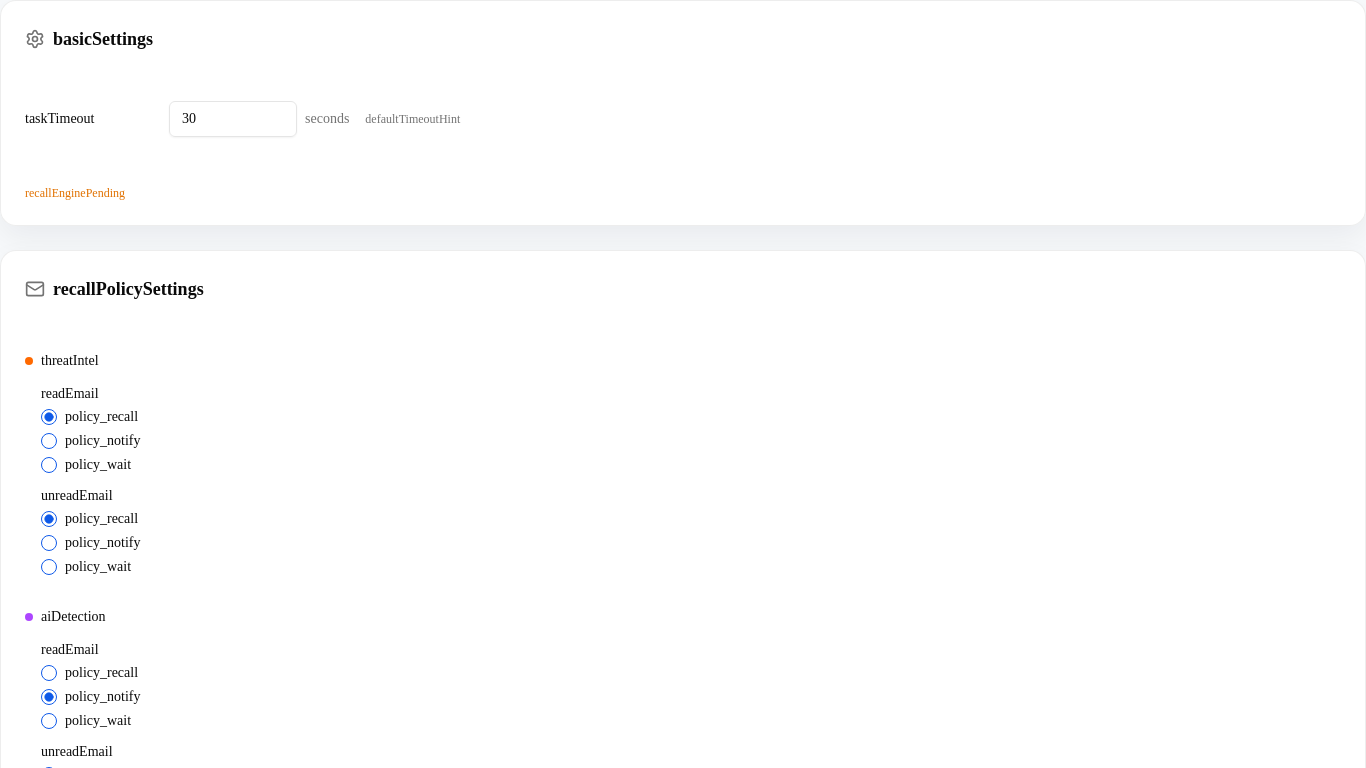
Test: RecallSettingsTab timeout input (GT-13250) › removes the forced zero before accepting a replacement integer
Clear the number field with test id "disposal-settings-recall-timeout" at (233,119), box x1=169 y1=101 x2=297 y2=137
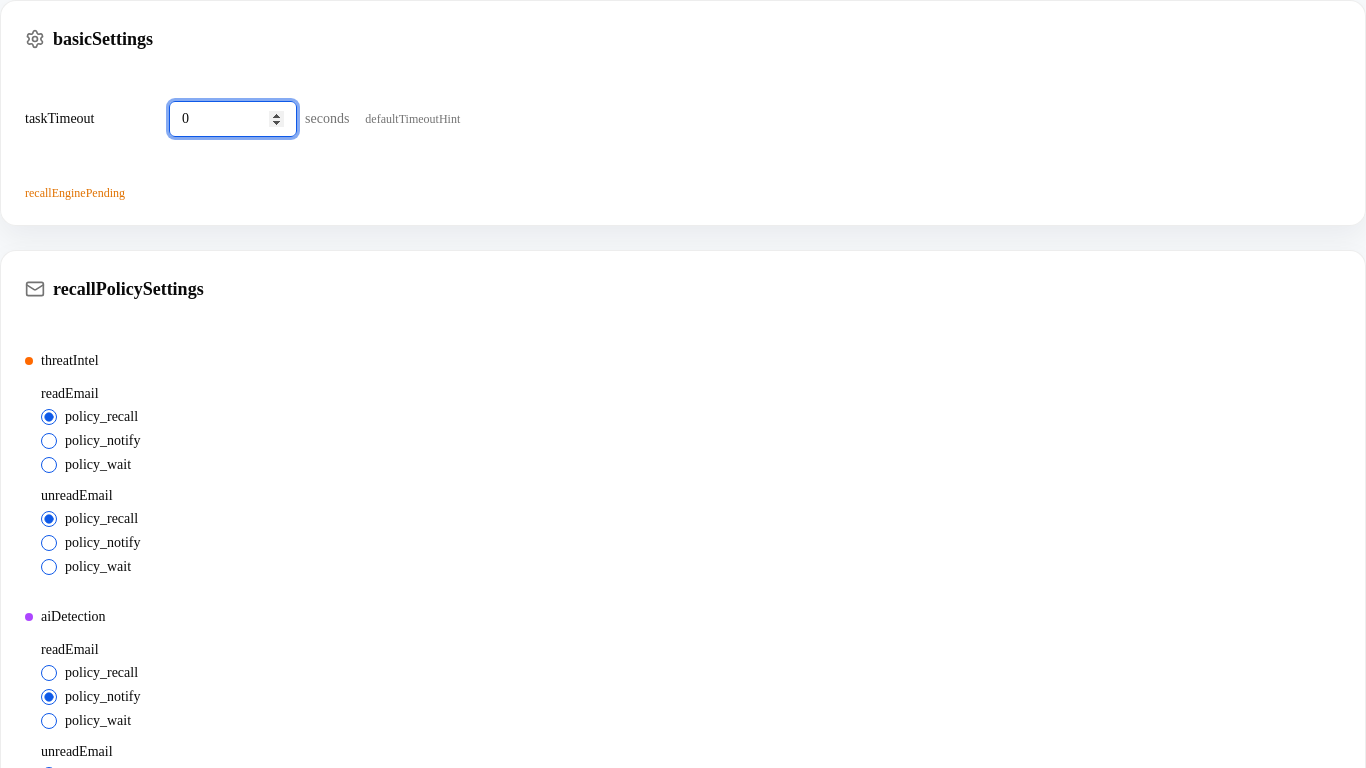
Result: the number field with test id "disposal-settings-recall-timeout" holds "0"
Replace the text in the number field with test id "disposal-settings-recall-timeout" with "031" at (233,119), box x1=169 y1=101 x2=297 y2=137
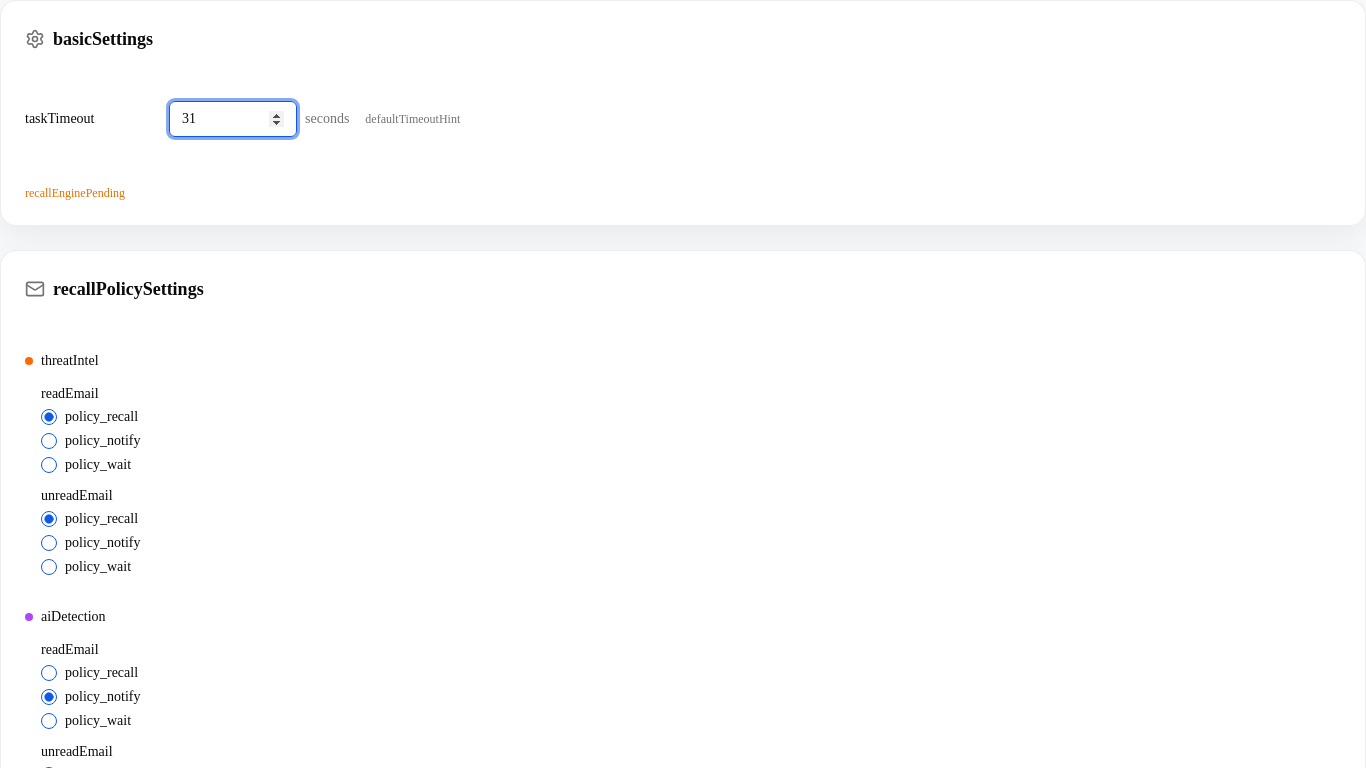
Result: the number field with test id "disposal-settings-recall-timeout" holds "31" at x1=169 y1=101 x2=297 y2=137
